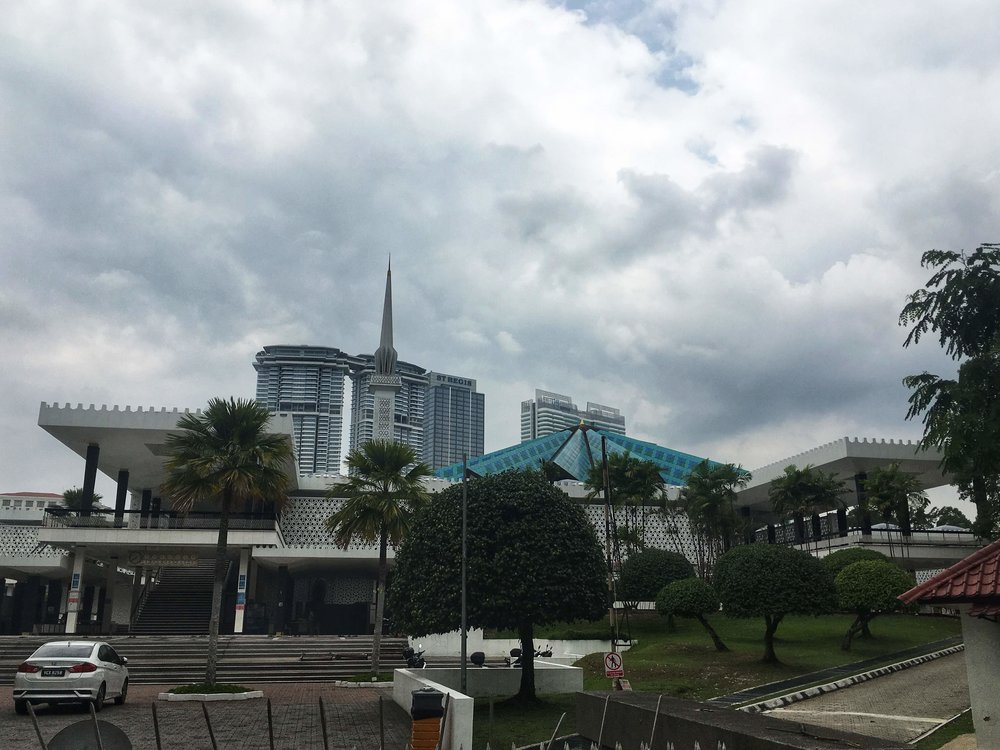Mosque: (360, 256, 402, 432)
